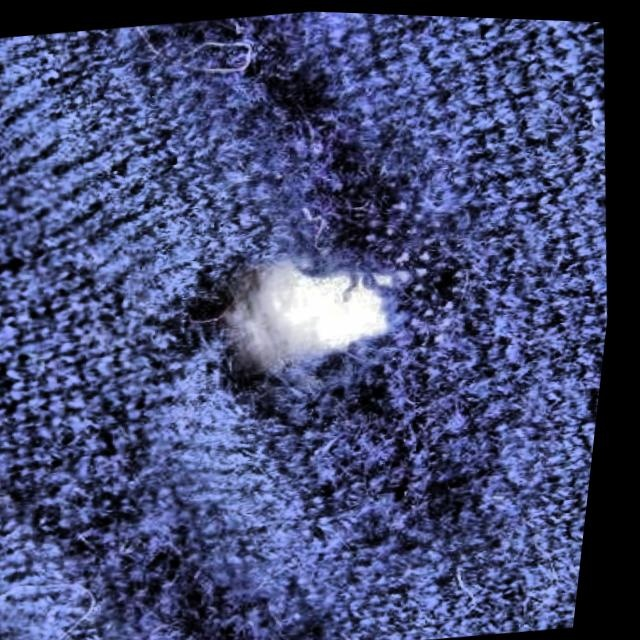Hole: (50, 85, 579, 554)
